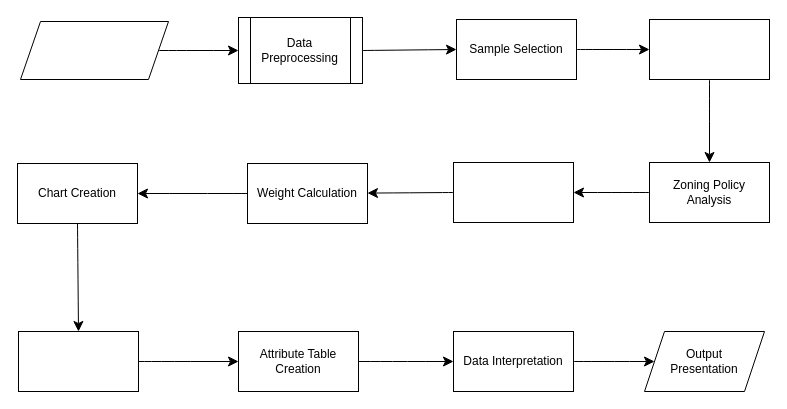
The diagram is 787 pixels wide and 409 high, and some of its shapes have lost their labels. Here are the shapes that lost their labels. From the top down, the centre of each, then its label:
the point at 94,50: Input Data Collection
the point at 709,49: Attribute Extraction
the point at 513,192: Conformity Assessment
the point at 78,361: Graph Generation
